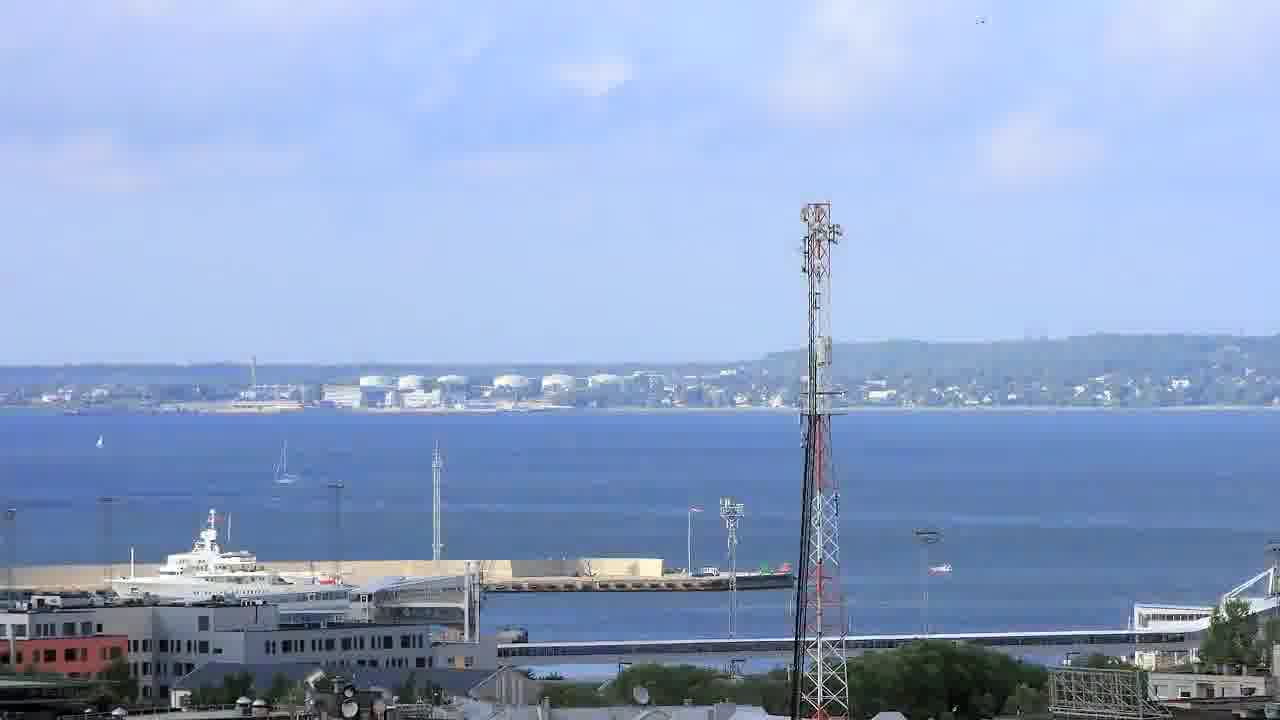type-2: (260, 425, 317, 490)
type-3: (96, 508, 381, 605)
type-4: (918, 545, 965, 586)
